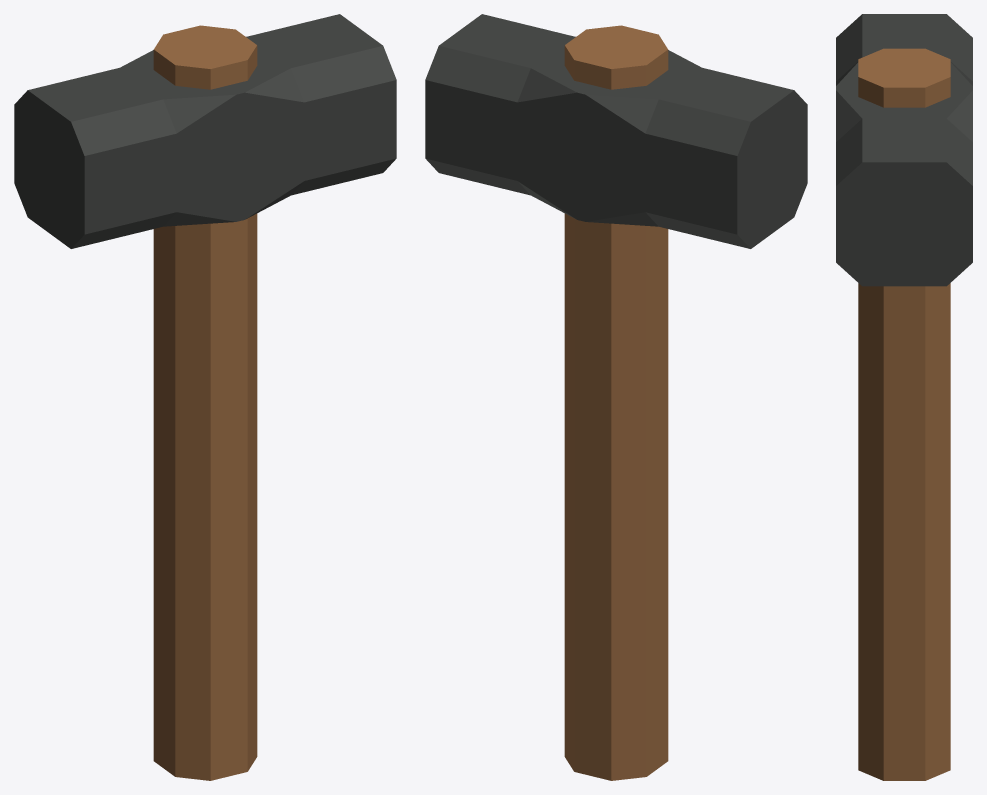
File: SM_Props_Hammer_01.glb
3 views of the same model, side by side, from view 1: azimuth 30°, elevation 25°; view 2: azimuth 150°, elevation 25°; view 3: azimuth 270°, elevation 25° (orthographic). The views are drawn at different scales.
Visible parts, largest first — view 1: SM_Props_Hammer_01; view 2: SM_Props_Hammer_01; view 3: SM_Props_Hammer_01.
Boxes of the visible parts, x1,y1,x2,y2 form: SM_Props_Hammer_01: [14, 14, 396, 780]; SM_Props_Hammer_01: [425, 14, 807, 780]; SM_Props_Hammer_01: [836, 14, 972, 780].
Size of the model in its own units: 0.1796 by 0.3914 by 0.07.
1 material, 1 textured.
